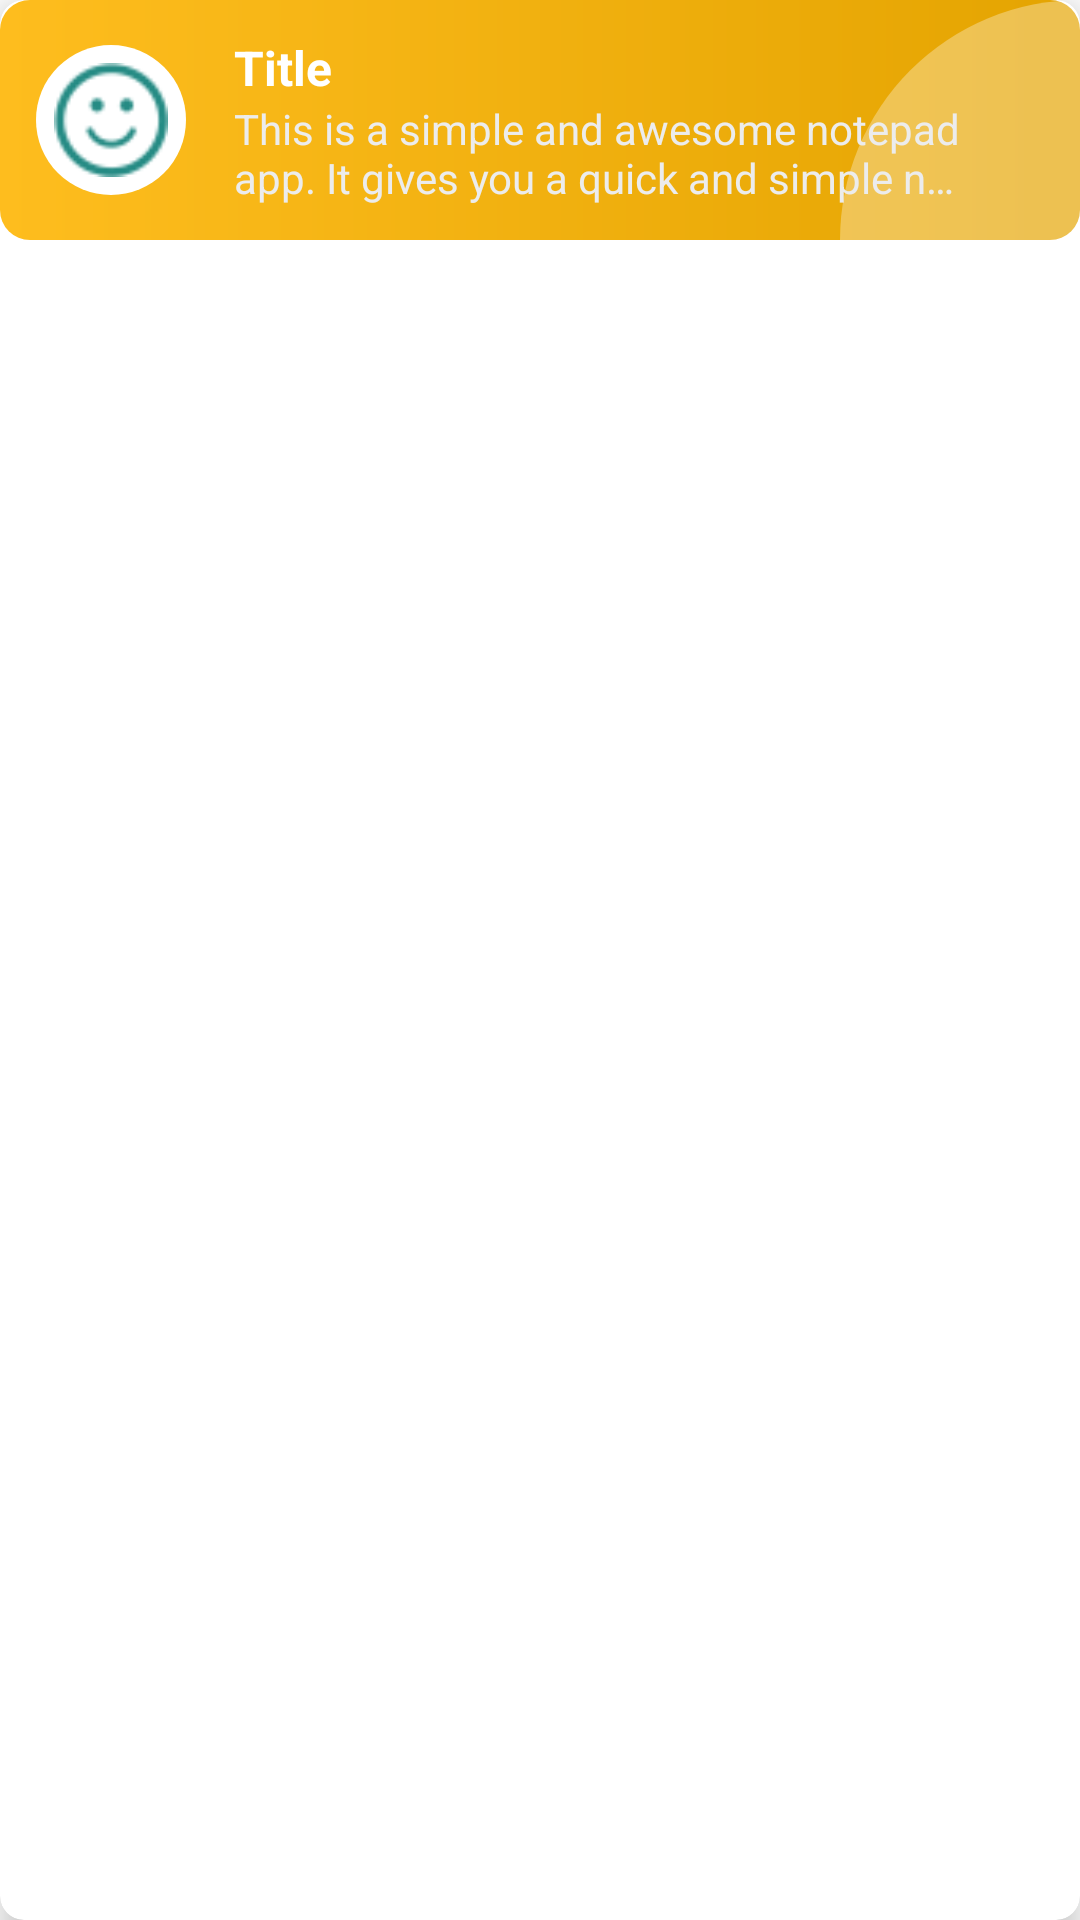

Named icons in this screenshot (1080px x 1920px) and their centers, (x=x, y=y):
smiley: (x=111, y=120)
